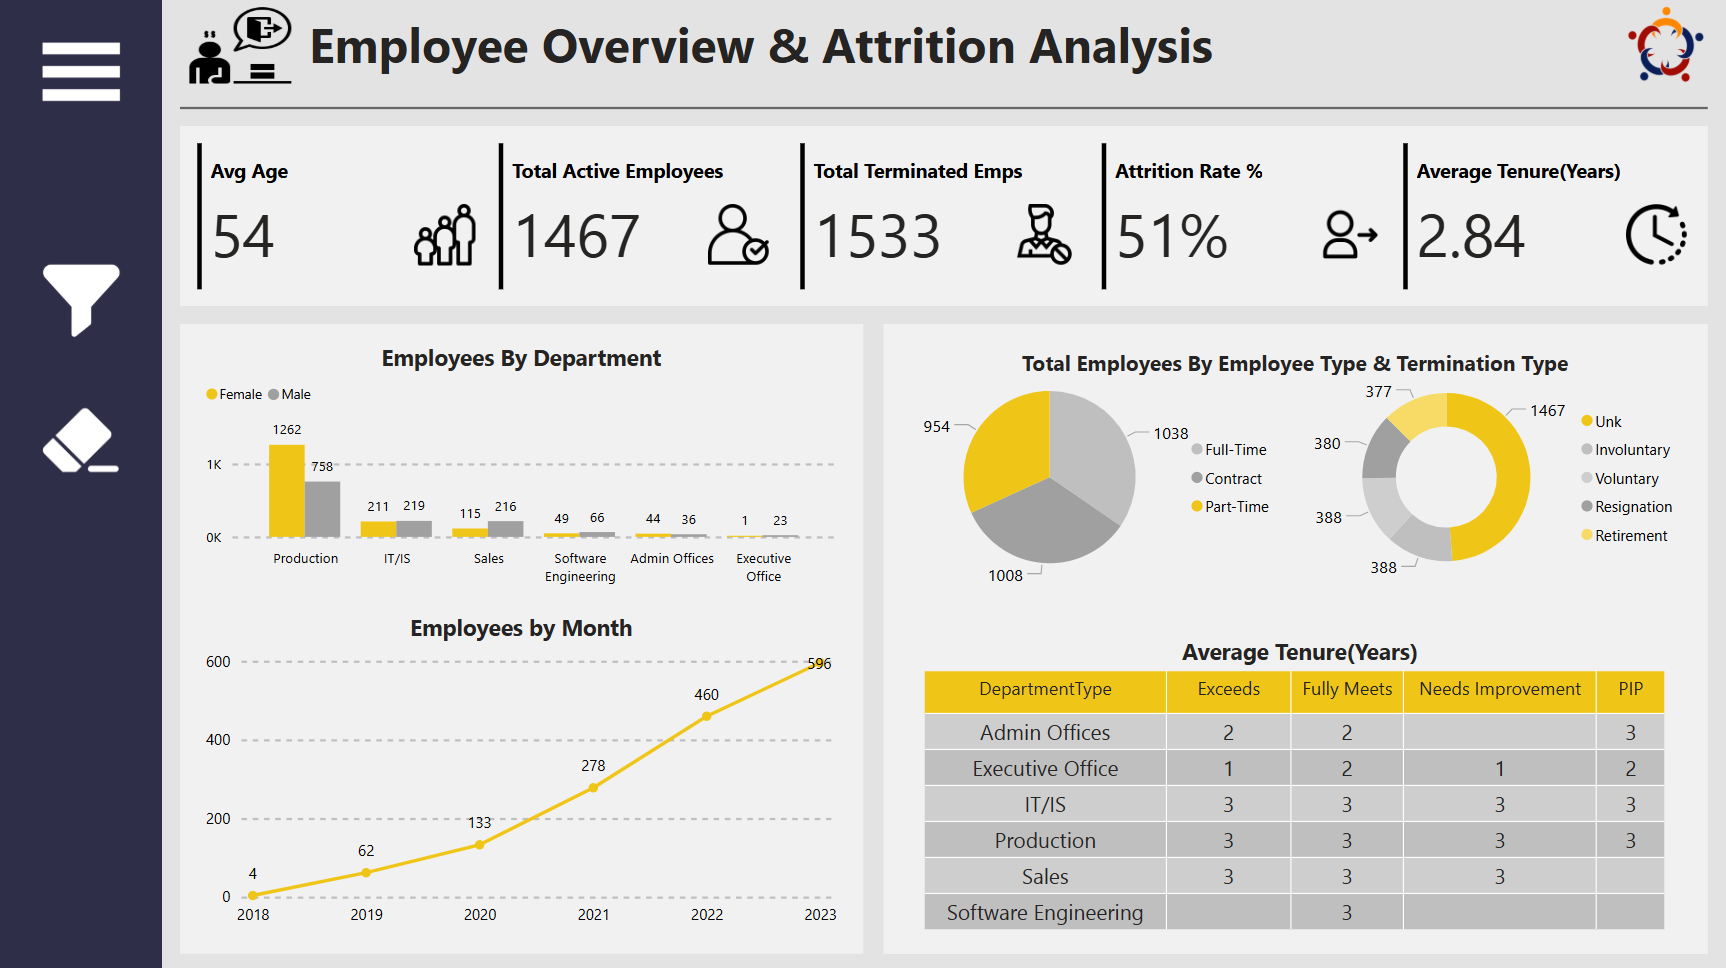

The page's visual inventory and layout, read from the dashboard file:
{"tool":"powerbi","page":{"name":"Emp Overview & Attrition","canvas":[1536,864],"ordinal":0},"visuals":[{"type":"shape","box":[160,112,1358.1,160],"z":0},{"type":"cardVisual","fields":{"Data":["employee_data.Avg Age","Measure Table.Total Active Employees","Measure Table.Total Inactive Emps","Measure Table.Attrition Rate %","Measure Table.Average Tenure(Years)"]},"box":[160,112,1358.1,160],"z":1000},{"type":"shape","box":[785.5,288,732.7,560],"z":2000},{"type":"shape","box":[160,288,607.6,560],"z":3000},{"type":"clusteredColumnChart","title":"Employees By Department","fields":{"Category":["employee_data.DepartmentType"],"Y":["Measure Table.All Emps"],"Series":["employee_data.GenderCode"]},"box":[177.9,304,571.8,224],"z":4000},{"type":"lineChart","title":"Employees by Month","fields":{"Category":["employee_data.ExitDate.Variation.Date Hierarchy.Year","employee_data.ExitDate.Variation.Date Hierarchy.Quarter","employee_data.ExitDate.Variation.Date Hierarchy.Month"],"Y":["Measure Table.All Emps"]},"box":[177.9,544,571.8,288],"z":5000},{"type":"pieChart","fields":{"Y":["Measure Table.All Emps"],"Category":["employee_data.EmployeeType"]},"box":[803.3,304,339.5,240],"z":6000},{"type":"donutChart","fields":{"Y":["Measure Table.All Emps"],"Category":["employee_data.TerminationType"]},"box":[1160.7,304,339.5,240],"z":7000},{"type":"pivotTable","title":"Average Tenure(Years)","fields":{"Rows":["employee_data.DepartmentType"],"Columns":["employee_data.GenderCode","employee_data.EmployeeType","employee_data.Performance_Score"],"Values":["Measure Table.Average Tenure(Years)"]},"box":[803.3,560,696.9,272],"z":8000},{"type":"textbox","box":[267.2,0,1268.8,80],"z":9000},{"type":"image","box":[160,0,107.2,80],"z":10000},{"type":"shape","box":[160,80,1358.1,32],"z":11000},{"type":"textbox","box":[803.2,303.5,697.1,34.4],"z":12000},{"type":"image","box":[362.7,175.6,64.9,64.9],"z":13000},{"type":"shape","box":[0,0,144,864],"z":15000},{"type":"image","box":[32.4,32.4,80.2,63],"z":16000},{"type":"image","box":[32.4,225.2,80.2,80.2],"z":17000},{"type":"image","box":[32.4,351.2,80.2,80.2],"z":18000},{"type":"image","box":[1441.1,0,78.3,80.2],"z":19000},{"type":"image","box":[624,176,64,64],"z":21000},{"type":"image","box":[896,176,64,64],"z":22000},{"type":"image","box":[1168,176,64,64],"z":23000},{"type":"image","box":[1440,176,64,64],"z":24000}]}

Visuals, with their boxes on the page's 1536x864 design canvas (x1, y1, x2, y2). These are canvas units, not pixel positions in the 1726x968 screenshot, which may show the page scaled, cropped or inside an application window:
shape: (left=160, top=112, right=1518, bottom=272)
cardVisual - employee_data.Avg Age x Measure Table.Total Active Employees: (left=160, top=112, right=1518, bottom=272)
shape: (left=786, top=288, right=1518, bottom=848)
shape: (left=160, top=288, right=768, bottom=848)
"Employees By Department" clusteredColumnChart: (left=178, top=304, right=750, bottom=528)
"Employees by Month" lineChart: (left=178, top=544, right=750, bottom=832)
pieChart - Measure Table.All Emps x employee_data.EmployeeType: (left=803, top=304, right=1143, bottom=544)
donutChart - Measure Table.All Emps x employee_data.TerminationType: (left=1161, top=304, right=1500, bottom=544)
"Average Tenure(Years)" pivotTable: (left=803, top=560, right=1500, bottom=832)
textbox: (left=267, top=0, right=1536, bottom=80)
image: (left=160, top=0, right=267, bottom=80)
shape: (left=160, top=80, right=1518, bottom=112)
textbox: (left=803, top=304, right=1500, bottom=338)
image: (left=363, top=176, right=428, bottom=240)
shape: (left=0, top=0, right=144, bottom=864)
image: (left=32, top=32, right=113, bottom=95)
image: (left=32, top=225, right=113, bottom=305)
image: (left=32, top=351, right=113, bottom=431)
image: (left=1441, top=0, right=1519, bottom=80)
image: (left=624, top=176, right=688, bottom=240)
image: (left=896, top=176, right=960, bottom=240)
image: (left=1168, top=176, right=1232, bottom=240)
image: (left=1440, top=176, right=1504, bottom=240)
